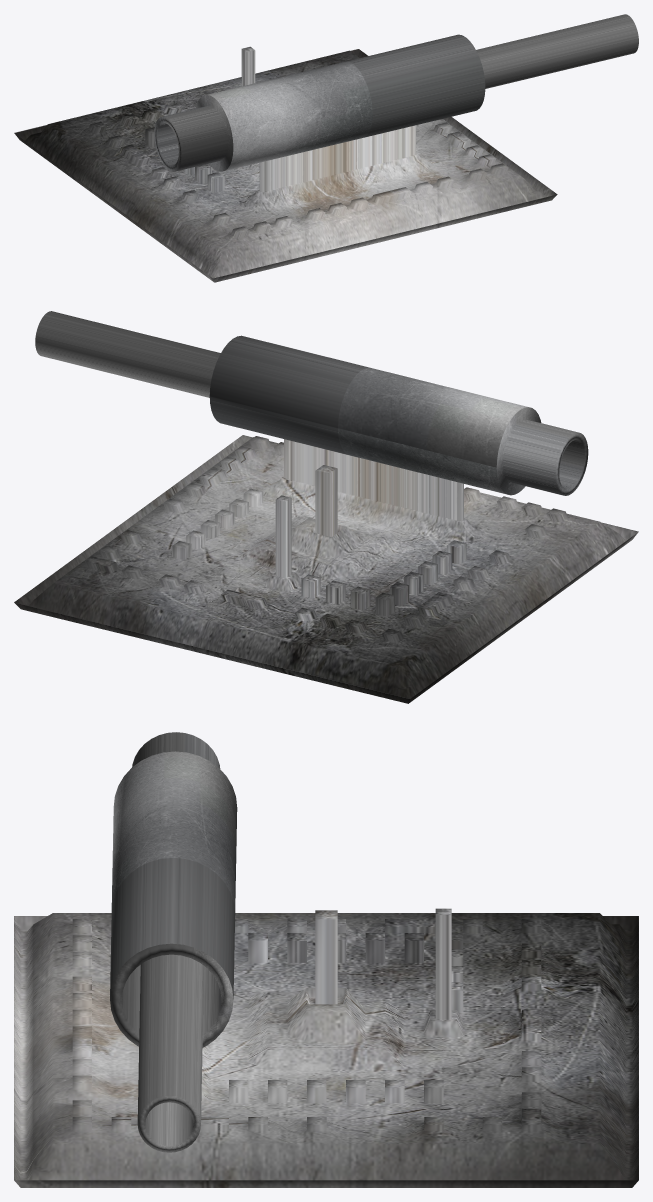
The model's file is pieza7.fbx.
3 renders of one model, top to bottom at view 1: azimuth 30°, elevation 25°; view 2: azimuth 150°, elevation 25°; view 3: azimuth 270°, elevation 25°, orthographic. The views are drawn at different scales.
Parts seen in each view (by area): view 1: Cylinder.066; view 2: Cylinder.066; view 3: Cylinder.066.
Boxes of the visible parts, box(x1,y1,x2,y2) form: Cylinder.066: box(14, 14, 638, 282); Cylinder.066: box(14, 311, 638, 703); Cylinder.066: box(14, 732, 638, 1187).
Size of the model in its own units: 369 by 104 by 273.
Materials: 2 (2 with a texture image).
